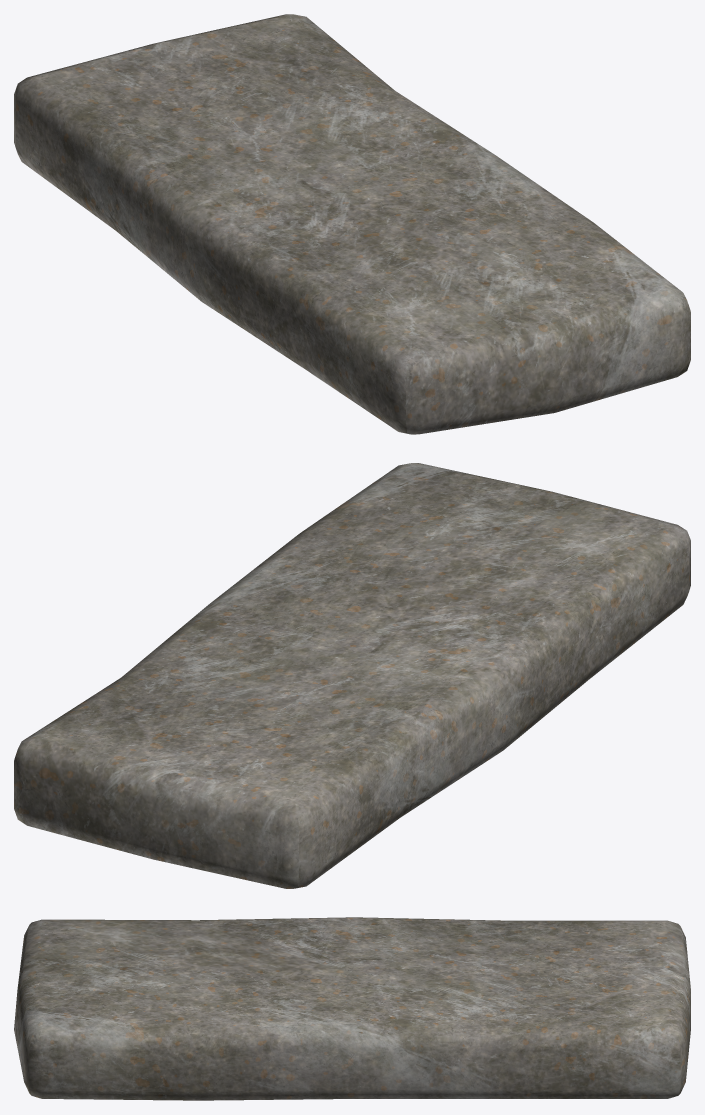
File: StoneBrick.fbx
3 views of the same model, one above another, from view 1: azimuth 30°, elevation 25°; view 2: azimuth 150°, elevation 25°; view 3: azimuth 270°, elevation 25° (orthographic). The views are drawn at different scales.
Visible parts, largest first — view 1: StoneBrick; view 2: StoneBrick; view 3: StoneBrick.
Part boxes in pixels (x1,y1,x2,y2): StoneBrick: (14, 14, 690, 434); StoneBrick: (14, 463, 690, 888); StoneBrick: (14, 917, 690, 1100).
Bounding box in the file's own units: 0.3132 × 0.1012 × 0.7161.
